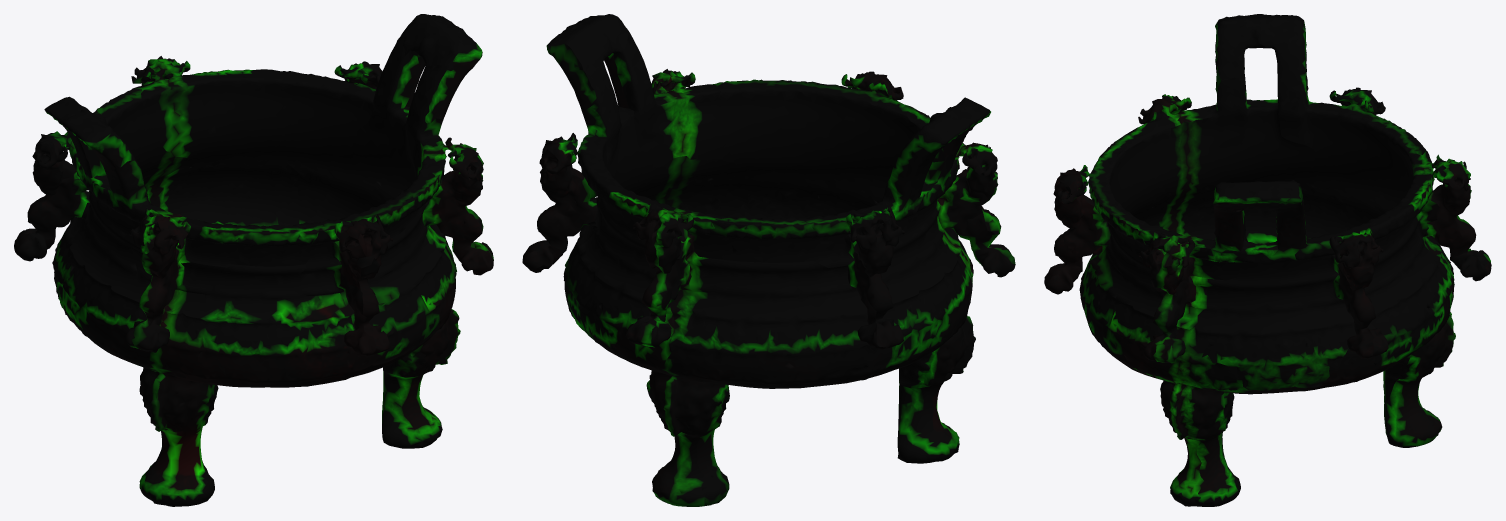
3 views of the same model, side by side, from view 1: azimuth 30°, elevation 25°; view 2: azimuth 150°, elevation 25°; view 3: azimuth 270°, elevation 25° (orthographic). The views are drawn at different scales.
Visible parts, largest first — view 1: shengding; view 2: shengding; view 3: shengding.
Part boxes in pixels (<box>): shengding: <box>14,14,493,506</box>; shengding: <box>522,14,1015,506</box>; shengding: <box>1044,14,1491,506</box>.
Size of the model in its own units: 0.6204 by 0.553 by 0.646.
Materials: 1 (1 with a texture image).
